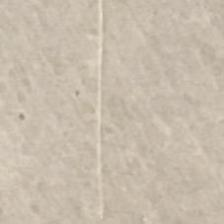Non_Crack: (10, 11, 220, 224)
